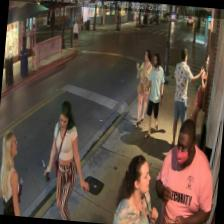person: (151, 116, 218, 224), (40, 99, 96, 222), (167, 48, 207, 149), (112, 152, 163, 224), (0, 130, 28, 216), (187, 53, 210, 143), (143, 52, 166, 138), (131, 48, 153, 128)
